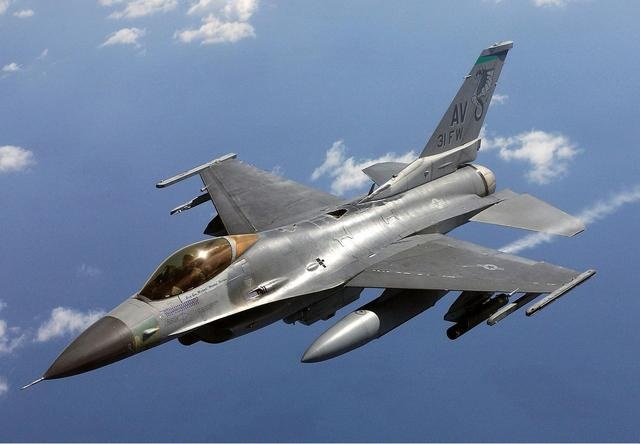airplane: (13, 32, 597, 396)
